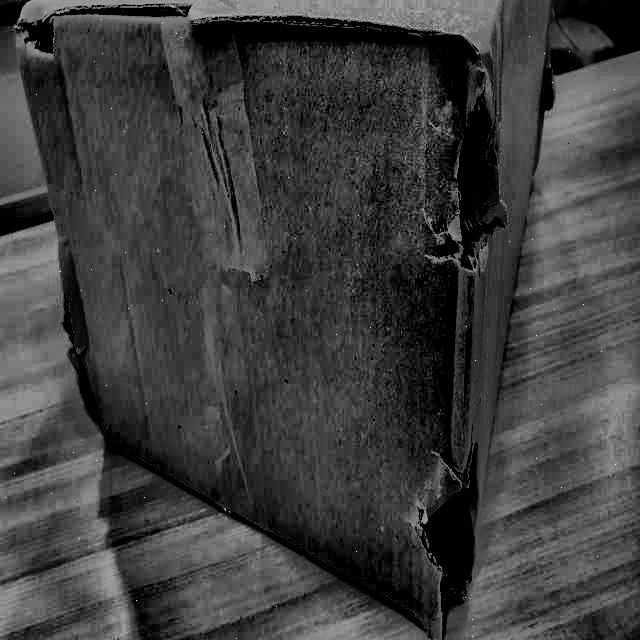box: (2, 0, 563, 638)
hole: (410, 443, 484, 605), (445, 93, 510, 265), (12, 0, 72, 66)
